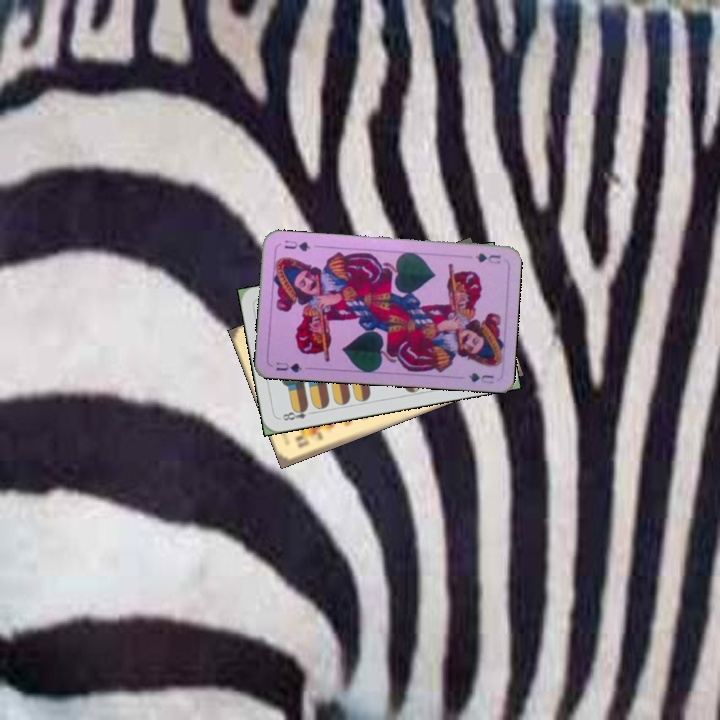E10: (292, 428, 325, 450)
E8: (278, 403, 317, 423)
GU: (272, 358, 304, 375), (471, 249, 503, 266)
